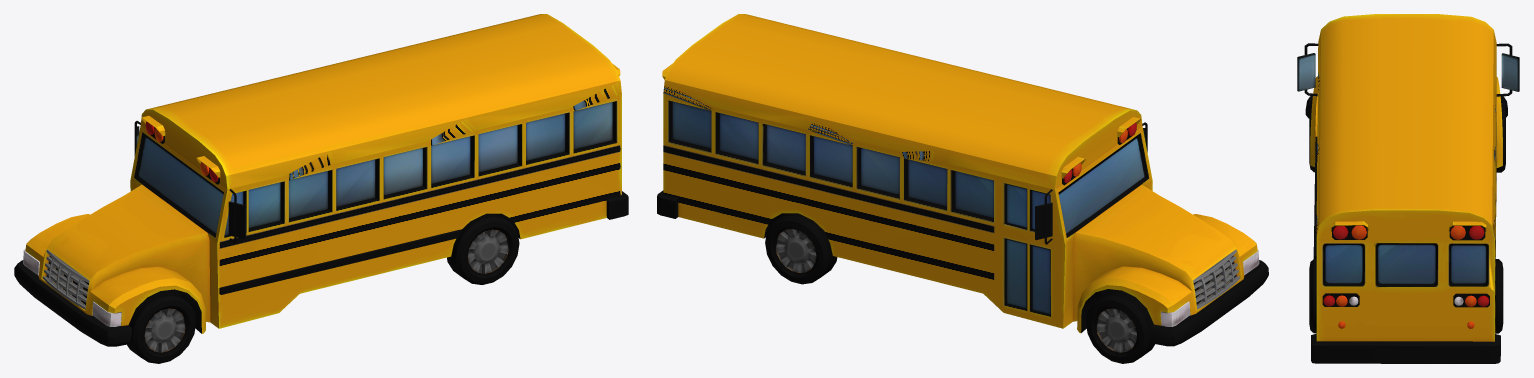
Rendered from xebuyt.fbx.
3 renders of one model, left to right at view 1: azimuth 30°, elevation 25°; view 2: azimuth 150°, elevation 25°; view 3: azimuth 270°, elevation 25°, orthographic. The views are drawn at different scales.
Parts seen in each view (by area): view 1: schoolbus; view 2: schoolbus; view 3: schoolbus.
Part boxes in pixels (left/top/right/bottom): schoolbus: left=14, top=14, right=628, bottom=363; schoolbus: left=657, top=14, right=1268, bottom=363; schoolbus: left=1297, top=14, right=1519, bottom=363.
Size of the model in its own units: 10.98 by 3.63 by 3.91.
